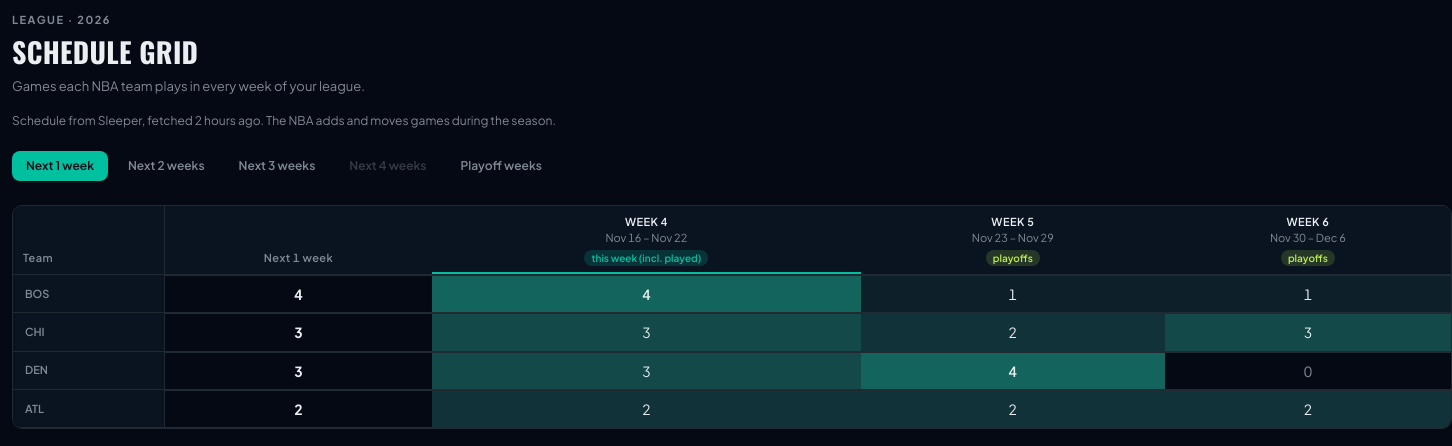
Test: Schedule grid › playoff weeks view (US2) › renders a playoff week beyond the stored schedule as not in Sleeper's schedule, not 0
Check: the column heading "BOS" is shown, box [13, 275, 165, 314]
Click the button "Playoff weeks". click: [501, 166]
box: [446, 151, 556, 181]
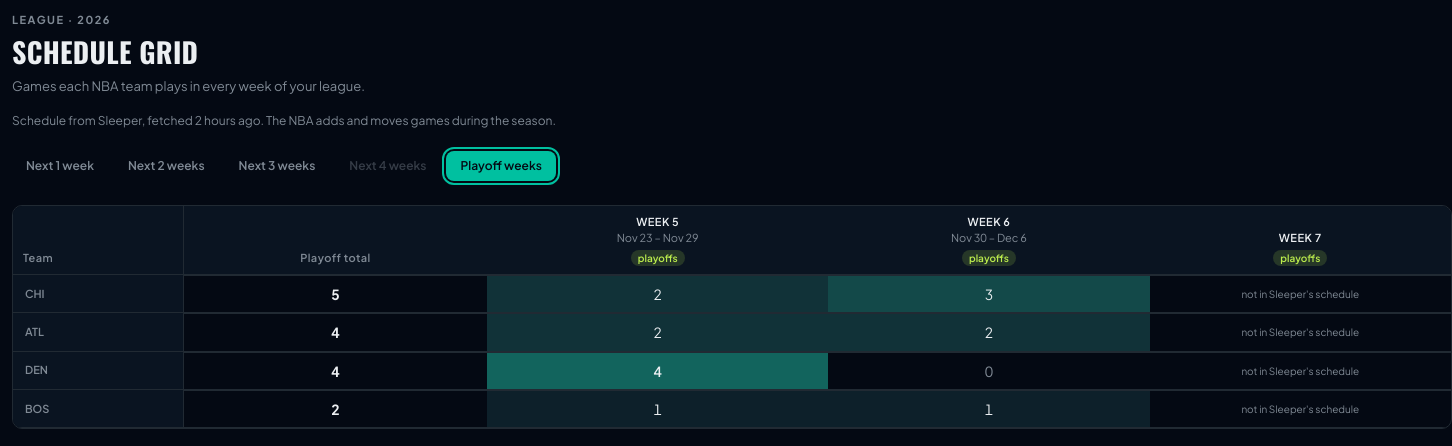
Check: the cell "2" next to "BOS" is shown, box [331, 400, 340, 418]
Check: the cell "not in Sleeper's schedule" in the row of "BOS" is shown, box [1241, 403, 1359, 415]
Check: the cell "not in Sleeper's schedule" in the row of "BOS" no longer shows "0", box [1150, 390, 1451, 428]
